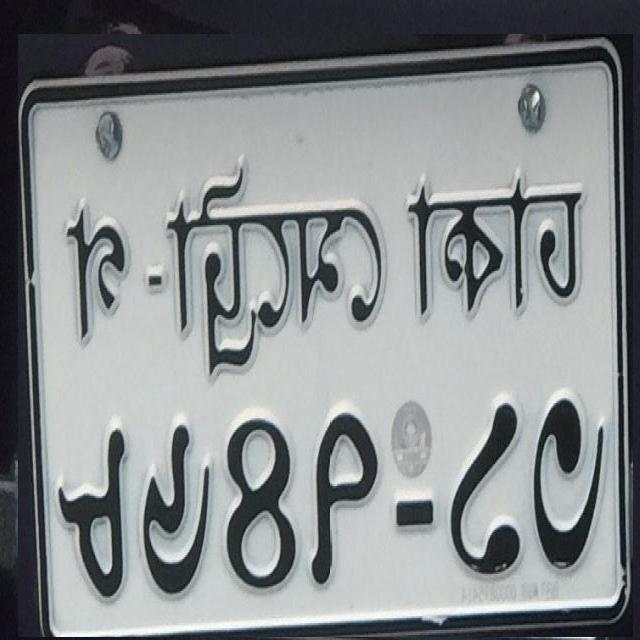numberplate: (18, 34, 633, 637)
